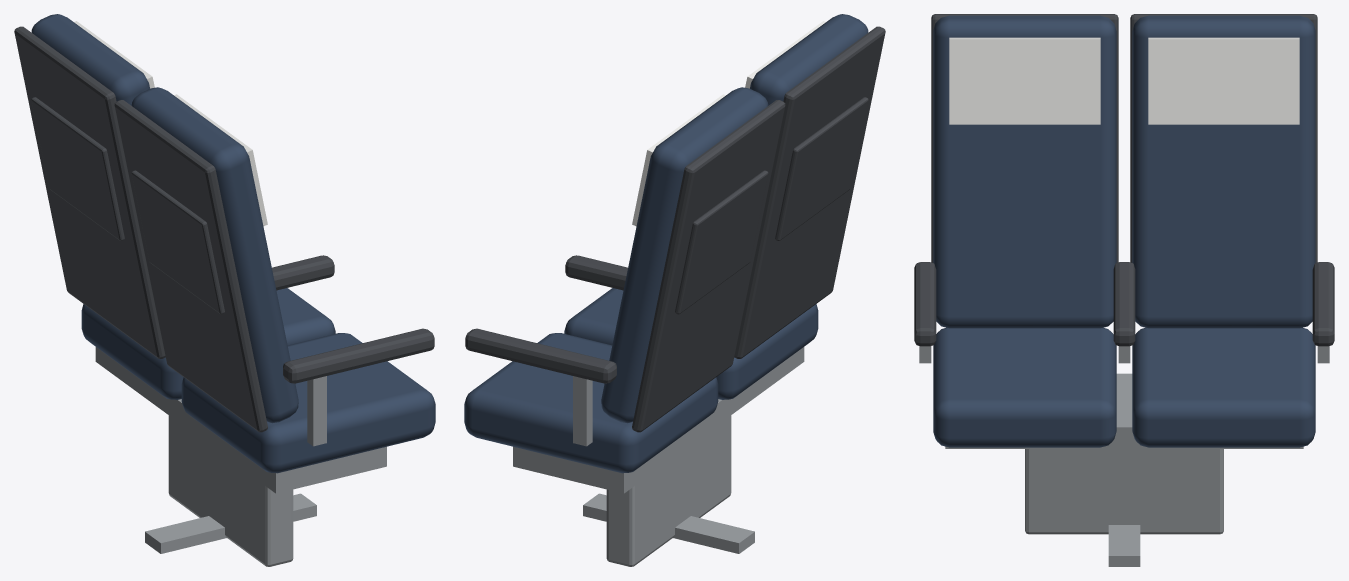
File: emu3000_seat_pair.glb
The picture shows the model from 3 angles, left to right: view 1: azimuth 30°, elevation 25°; view 2: azimuth 150°, elevation 25°; view 3: azimuth 270°, elevation 25°; orthographic projection.
Visible parts, largest first — view 1: SeatPair; view 2: SeatPair; view 3: SeatPair.
Part boxes in pixels (<box>): SeatPair: <box>14,14,435,566</box>; SeatPair: <box>464,14,885,566</box>; SeatPair: <box>914,14,1334,566</box>.
Bounding box in the file's own units: 0.6788 × 1.3 × 1.06.
